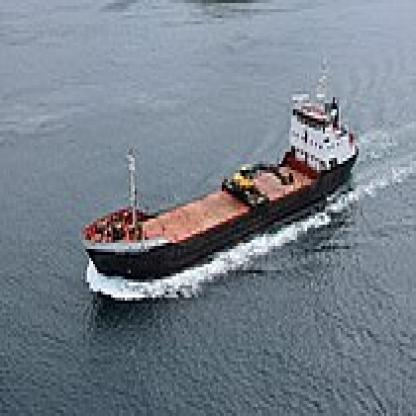Tanker: (90, 133, 350, 279)
